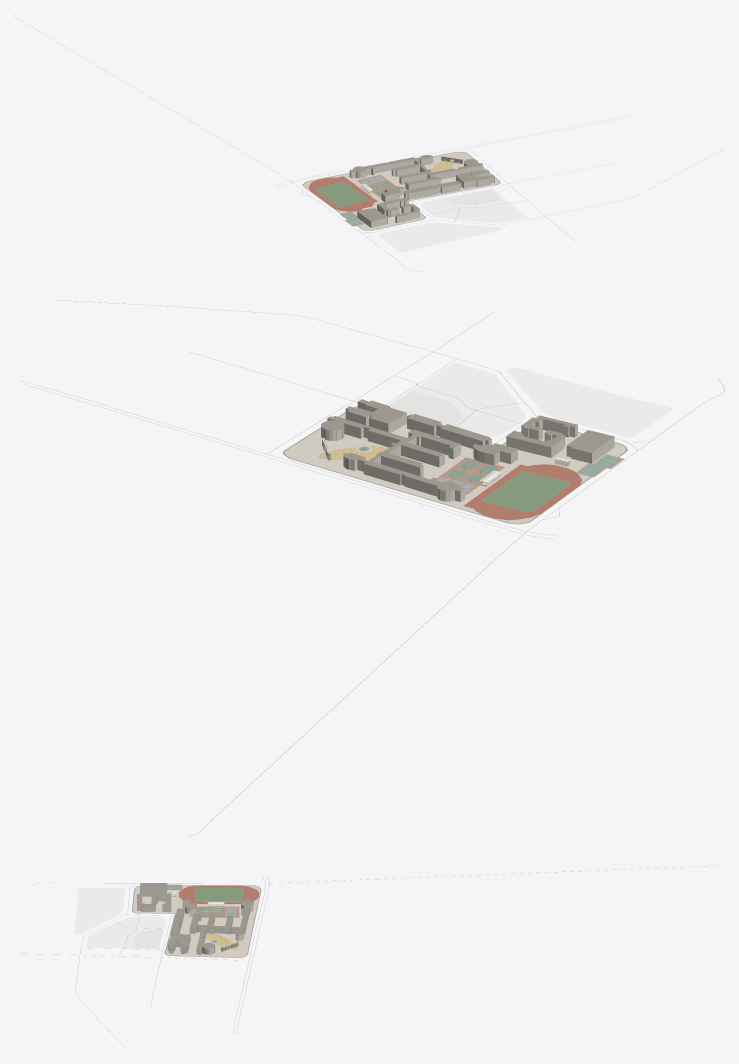
File: 厦门外国语学校海沧校区-足球场原点.glb
3 views of the same model, one above another, from view 1: azimuth 30°, elevation 25°; view 2: azimuth 150°, elevation 25°; view 3: azimuth 270°, elevation 25° (orthographic). The views are drawn at different scales.
Parts seen in each view (by area): view 1: landuse, ground, linework_777b72_x11, track_surface_1, pitch_football_surface_2, building_1189318109_7; view 2: landuse, ground, linework_777b72_x11, track_surface_1, pitch_football_surface_2, building_1189318109_7; view 3: landuse, ground, linework_777b72_x11, pitch_football_surface_2, track_surface_1.
Part boxes in pixels (bbox=[...]): landuse: bbox=[378, 189, 524, 252]; ground: bbox=[302, 151, 500, 230]; linework_777b72_x11: bbox=[14, 14, 724, 271]; track_surface_1: bbox=[309, 176, 377, 211]; pitch_football_surface_2: bbox=[316, 182, 368, 207]; building_1189318109_7: bbox=[349, 160, 414, 178]; landuse: bbox=[388, 362, 673, 437]; ground: bbox=[283, 406, 627, 524]; linework_777b72_x11: bbox=[20, 300, 724, 836]; track_surface_1: bbox=[464, 464, 582, 520]; pitch_football_surface_2: bbox=[482, 471, 570, 512]; building_1189318109_7: bbox=[363, 464, 465, 501]; landuse: bbox=[74, 888, 166, 948]; ground: bbox=[132, 885, 261, 957]; linework_777b72_x11: bbox=[14, 865, 722, 1048]; pitch_football_surface_2: bbox=[195, 887, 242, 901]; track_surface_1: bbox=[178, 885, 259, 903].
Size of what is drawn, in the model's own units: 963 by 15.03 by 1572.
Materials: 71 (2 with a texture image).
